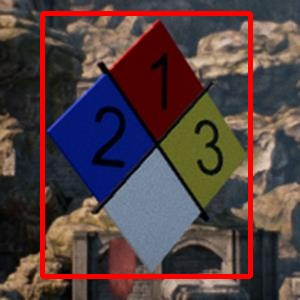nfpa: (42, 13, 250, 276)
